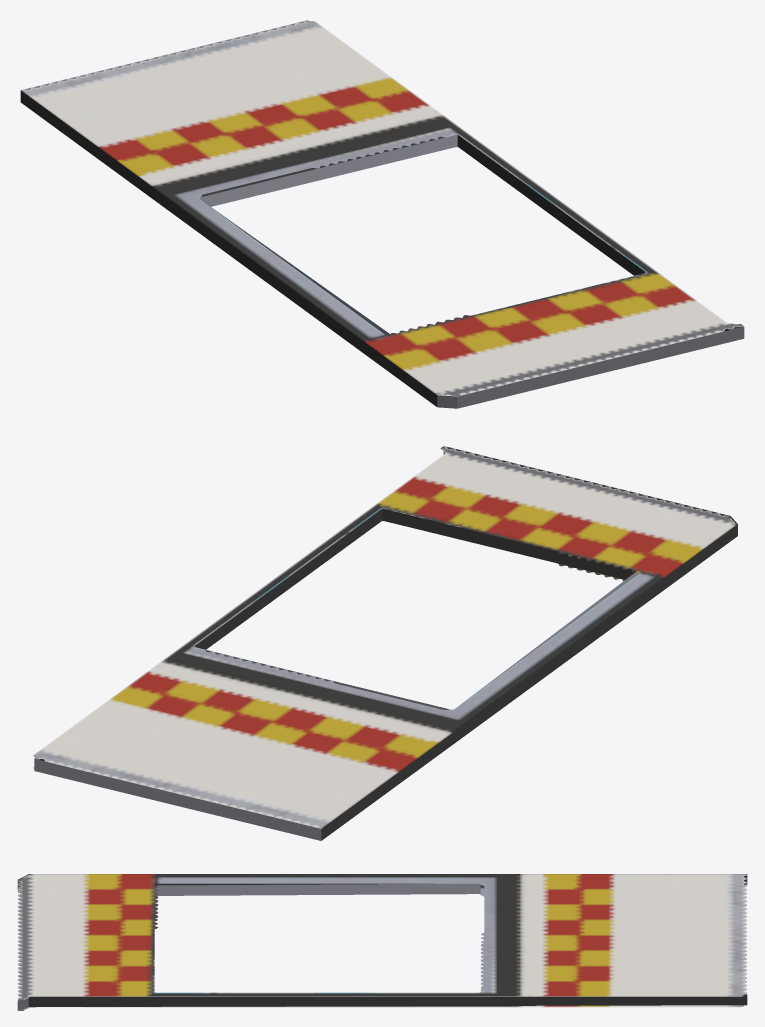
Rendered from pz_native_location_shop_gas2go_01_7_frame.obj.
3 views of the same model, one above another, from view 1: azimuth 30°, elevation 25°; view 2: azimuth 150°, elevation 25°; view 3: azimuth 270°, elevation 25° (orthographic). The views are drawn at different scales.
Parts seen in each view (by area): view 1: pz_native_location_shop_gas2go_01_7_frame; view 2: pz_native_location_shop_gas2go_01_7_frame; view 3: pz_native_location_shop_gas2go_01_7_frame.
Part boxes in pixels (left/top/right/bottom): pz_native_location_shop_gas2go_01_7_frame: left=20, top=20, right=744, bottom=408; pz_native_location_shop_gas2go_01_7_frame: left=33, top=446, right=737, bottom=840; pz_native_location_shop_gas2go_01_7_frame: left=17, top=874, right=747, bottom=1010.
Size of the model in its own units: 1.06 by 0.04 by 2.54.
1 material, 1 textured.
